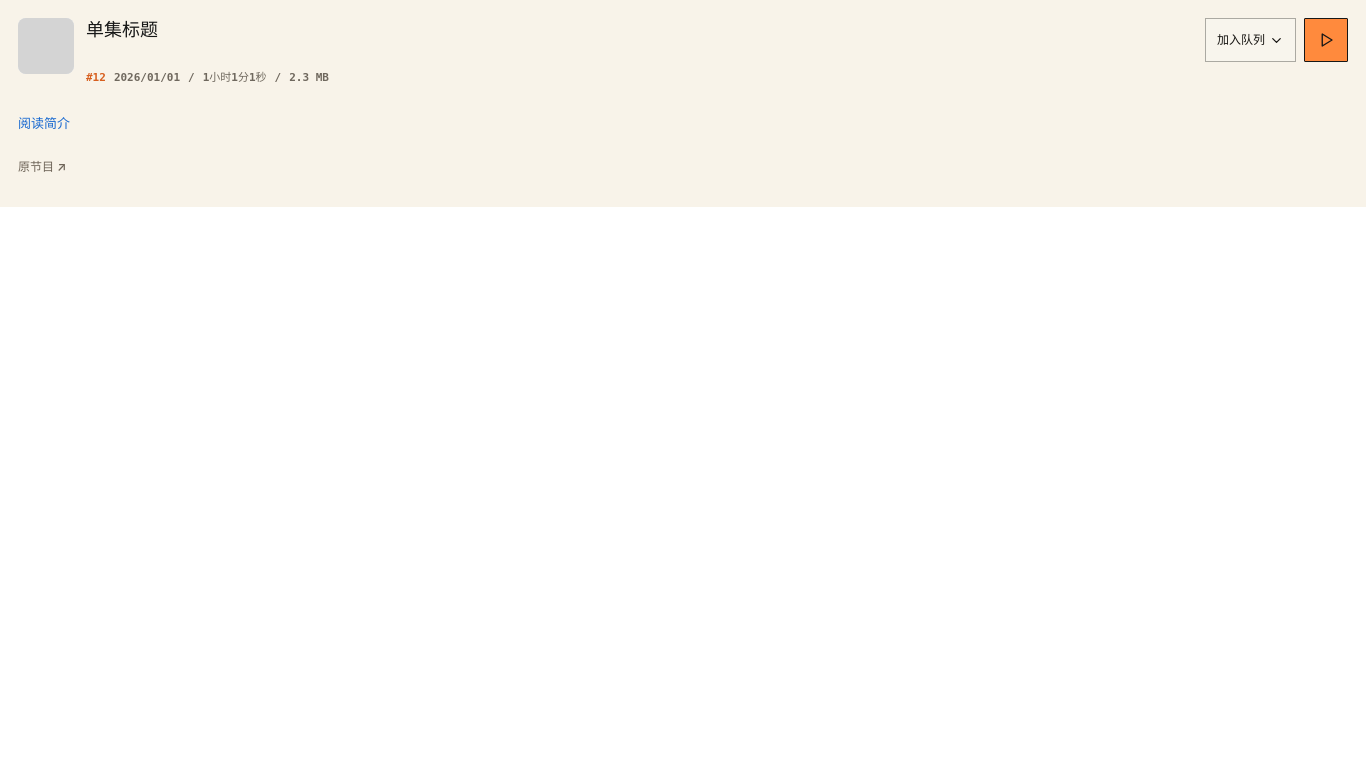
Test case: EpisodeCard › loads full show notes when the explicit availability flag has no text preview
The width and height of the screenshot is (1366, 768).
Click the button "阅读简介". click: (44, 123)
box: x1=18 y1=101 x2=70 y2=145
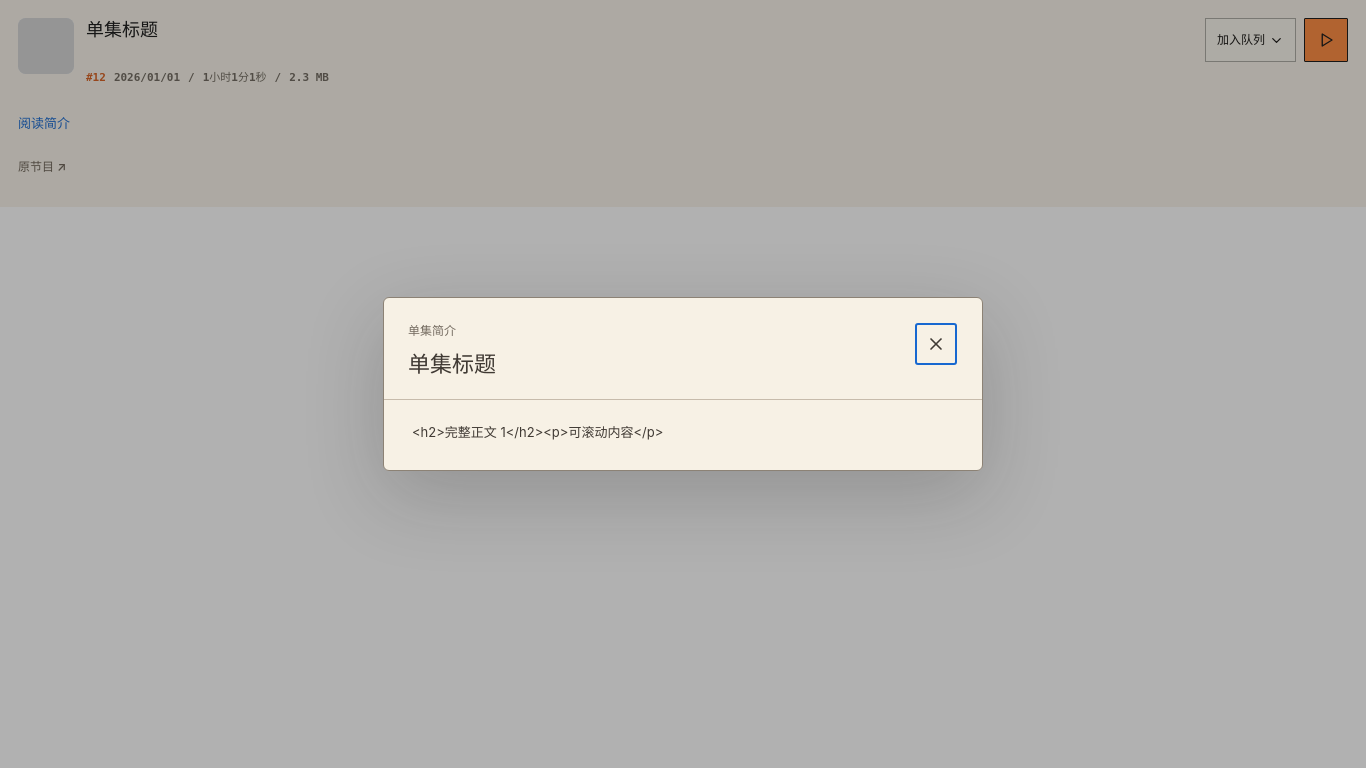
Now the element named "完整 Show Notes" is shown, box x1=412 y1=424 x2=663 y2=440
